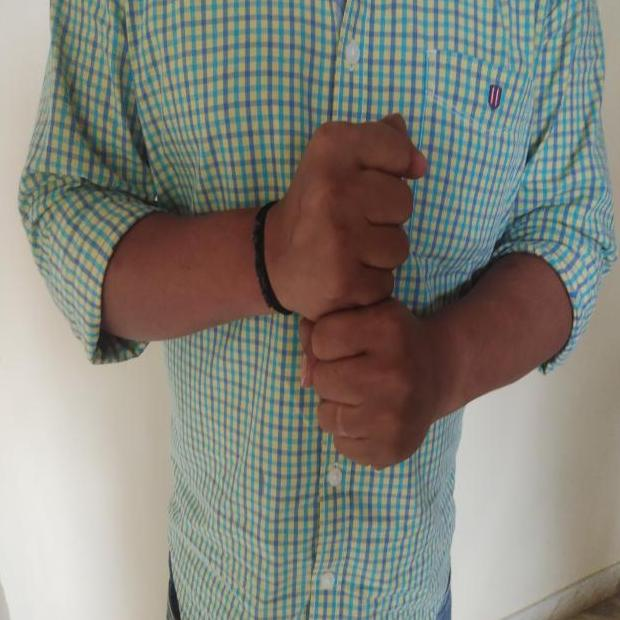F: (243, 88, 482, 504)
